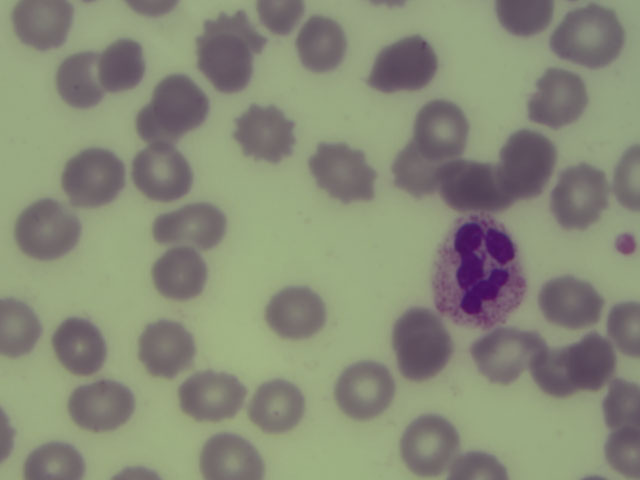Platelets: (611, 228, 638, 260)
RBC: (150, 204, 230, 250), (394, 144, 459, 195), (199, 429, 262, 480), (196, 7, 265, 53), (13, 1, 74, 49), (53, 51, 104, 108), (22, 437, 89, 480), (1, 294, 44, 361), (392, 319, 446, 372), (74, 377, 128, 430), (250, 378, 304, 431), (186, 367, 240, 420), (141, 319, 195, 372), (51, 318, 105, 371), (20, 204, 74, 257), (65, 151, 119, 204), (270, 285, 324, 338), (150, 249, 204, 302), (131, 146, 185, 199), (154, 74, 208, 127), (98, 39, 152, 92), (197, 37, 251, 90), (240, 101, 294, 154), (318, 142, 372, 195), (294, 17, 348, 70), (378, 41, 432, 94), (401, 417, 455, 470), (337, 366, 391, 419), (473, 331, 527, 384), (543, 271, 597, 324), (552, 169, 606, 222), (500, 132, 554, 185), (534, 72, 588, 125), (561, 9, 615, 62), (451, 159, 508, 207), (572, 331, 615, 394), (528, 346, 580, 395), (133, 102, 184, 149), (603, 373, 640, 435), (607, 142, 640, 210), (416, 100, 466, 144), (598, 430, 640, 480), (496, 1, 553, 37), (611, 294, 640, 357), (452, 446, 505, 480), (255, 1, 307, 35)
WBC: (435, 216, 532, 326)
